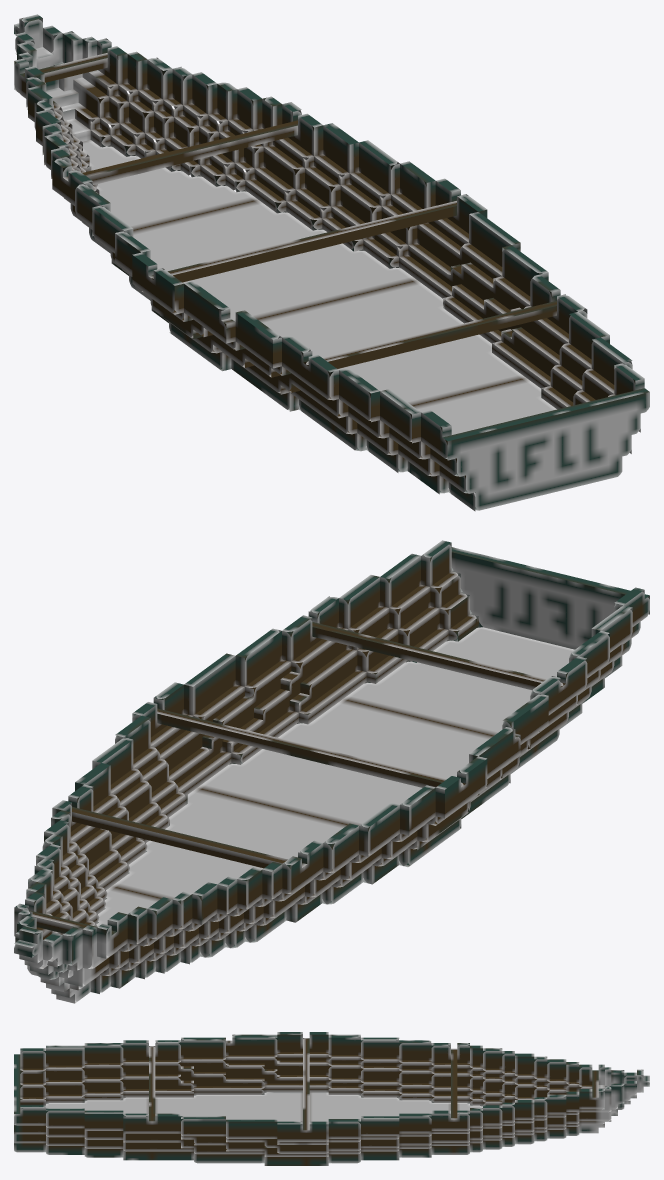
File: Canoa-Kidney.fbx
The picture shows the model from 3 angles, top to bottom: view 1: azimuth 30°, elevation 25°; view 2: azimuth 150°, elevation 25°; view 3: azimuth 270°, elevation 25°; orthographic projection. The views are drawn at different scales.
Parts seen in each view (by area): view 1: Canoa-Kidney.001; view 2: Canoa-Kidney.001; view 3: Canoa-Kidney.001.
Boxes of the visible parts, x1,y1,x2,y2 form: Canoa-Kidney.001: (14,14,649,511); Canoa-Kidney.001: (14,540,649,1003); Canoa-Kidney.001: (14,1032,649,1165).
Size of the model in its own units: 3.4 by 1 by 9.9.
1 material, 1 textured.
